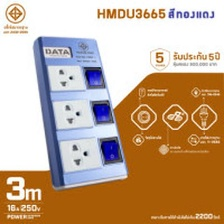three_eye_plug: (28, 28, 131, 195)
